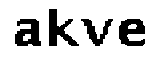a: (11, 14, 43, 52)
e: (119, 19, 148, 51)
k: (44, 6, 81, 54)
v: (81, 15, 113, 49)
